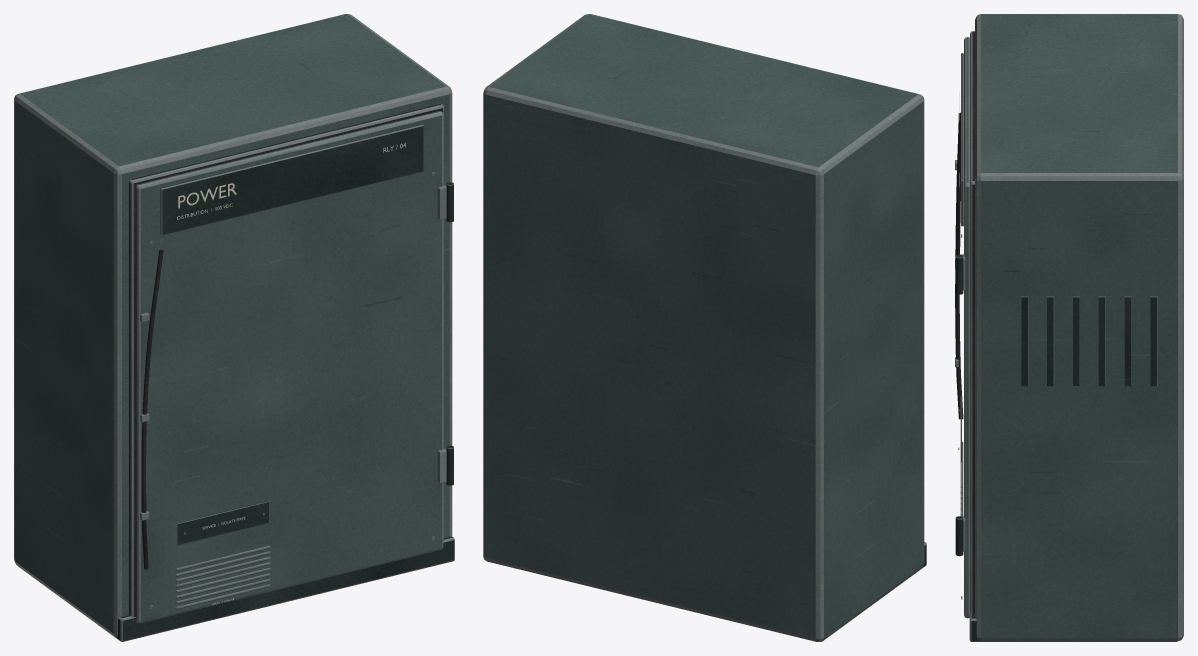
The model's file is POWER_Cabinet.fbx.
3 views of the same model, side by side, from view 1: azimuth 30°, elevation 25°; view 2: azimuth 150°, elevation 25°; view 3: azimuth 270°, elevation 25° (orthographic).
Parts seen in each view (by area): view 1: POWER_Cabinet__Visual; view 2: POWER_Cabinet__Visual; view 3: POWER_Cabinet__Visual.
Boxes of the visible parts, x1,y1,x2,y2 form: POWER_Cabinet__Visual: (14,14,454,641); POWER_Cabinet__Visual: (483,14,926,641); POWER_Cabinet__Visual: (955,14,1183,641).
Bounding box in the file's own units: 1.8 × 2.4 × 1.06.
